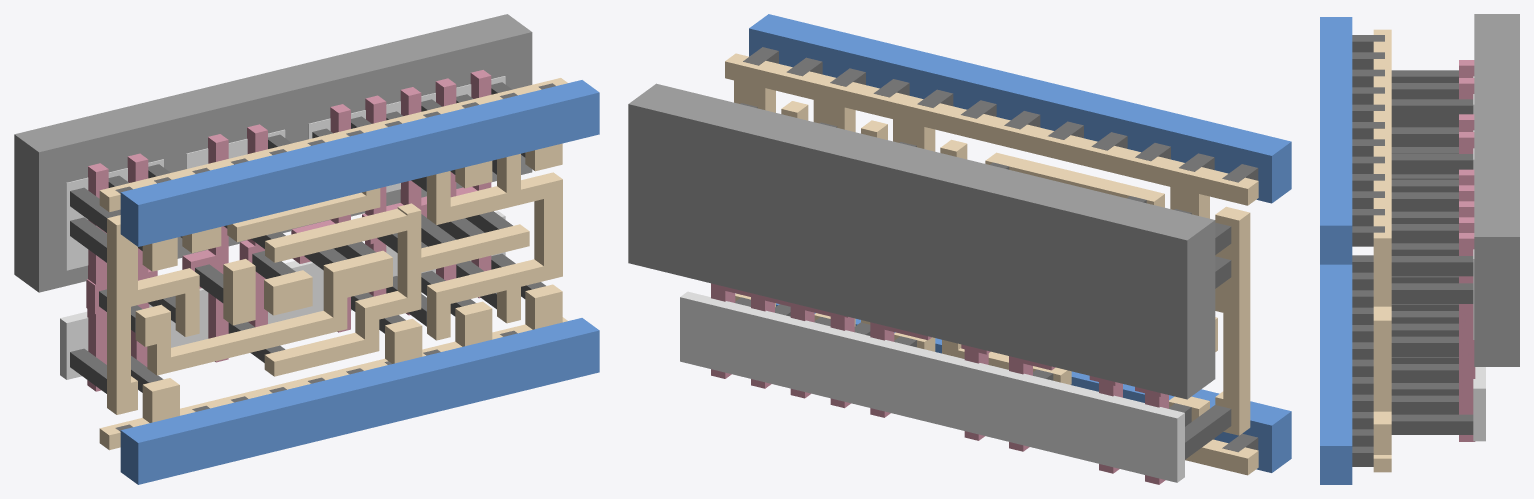
The model's file is sky130_fd_sc_hd__mux2_4.gds.gltf.
3 views of the same model, side by side, from view 1: azimuth 30°, elevation 25°; view 2: azimuth 150°, elevation 25°; view 3: azimuth 270°, elevation 25° (orthographic). The views are drawn at different scales.
Visible parts, largest first — view 1: sky130_fd_sc_hd__mux2_4_li1, sky130_fd_sc_hd__mux2_4_met1, sky130_fd_sc_hd__mux2_4_nwell, sky130_fd_sc_hd__mux2_4_licon, sky130_fd_sc_hd__mux2_4_poly, sky130_fd_sc_hd__mux2_4_diff, sky130_fd_sc_hd__mux2_4_mcon; view 2: sky130_fd_sc_hd__mux2_4_nwell, sky130_fd_sc_hd__mux2_4_diff, sky130_fd_sc_hd__mux2_4_li1, sky130_fd_sc_hd__mux2_4_met1, sky130_fd_sc_hd__mux2_4_mcon, sky130_fd_sc_hd__mux2_4_poly, sky130_fd_sc_hd__mux2_4_licon; view 3: sky130_fd_sc_hd__mux2_4_licon, sky130_fd_sc_hd__mux2_4_nwell, sky130_fd_sc_hd__mux2_4_met1, sky130_fd_sc_hd__mux2_4_mcon, sky130_fd_sc_hd__mux2_4_li1, sky130_fd_sc_hd__mux2_4_poly, sky130_fd_sc_hd__mux2_4_diff.
Part boxes in pixels (x1,y1,x2,y2): sky130_fd_sc_hd__mux2_4_li1: (99, 78, 567, 450); sky130_fd_sc_hd__mux2_4_met1: (120, 80, 599, 484); sky130_fd_sc_hd__mux2_4_nwell: (14, 14, 532, 292); sky130_fd_sc_hd__mux2_4_licon: (70, 82, 545, 393); sky130_fd_sc_hd__mux2_4_poly: (86, 70, 491, 391); sky130_fd_sc_hd__mux2_4_diff: (60, 76, 505, 379); sky130_fd_sc_hd__mux2_4_mcon: (115, 83, 555, 431); sky130_fd_sc_hd__mux2_4_nwell: (628, 83, 1215, 399); sky130_fd_sc_hd__mux2_4_diff: (680, 291, 1184, 482); sky130_fd_sc_hd__mux2_4_li1: (725, 53, 1258, 475); sky130_fd_sc_hd__mux2_4_met1: (749, 14, 1291, 472); sky130_fd_sc_hd__mux2_4_mcon: (743, 47, 1258, 452); sky130_fd_sc_hd__mux2_4_poly: (711, 283, 1168, 484); sky130_fd_sc_hd__mux2_4_licon: (735, 103, 1231, 459); sky130_fd_sc_hd__mux2_4_licon: (1391, 70, 1473, 434); sky130_fd_sc_hd__mux2_4_nwell: (1474, 14, 1519, 366); sky130_fd_sc_hd__mux2_4_met1: (1320, 17, 1352, 484); sky130_fd_sc_hd__mux2_4_mcon: (1352, 35, 1384, 466); sky130_fd_sc_hd__mux2_4_li1: (1373, 29, 1391, 472); sky130_fd_sc_hd__mux2_4_poly: (1459, 60, 1475, 441); sky130_fd_sc_hd__mux2_4_diff: (1473, 76, 1485, 441).
Size of the model in its own units: 5.9 by 3.2 by 2.24.
